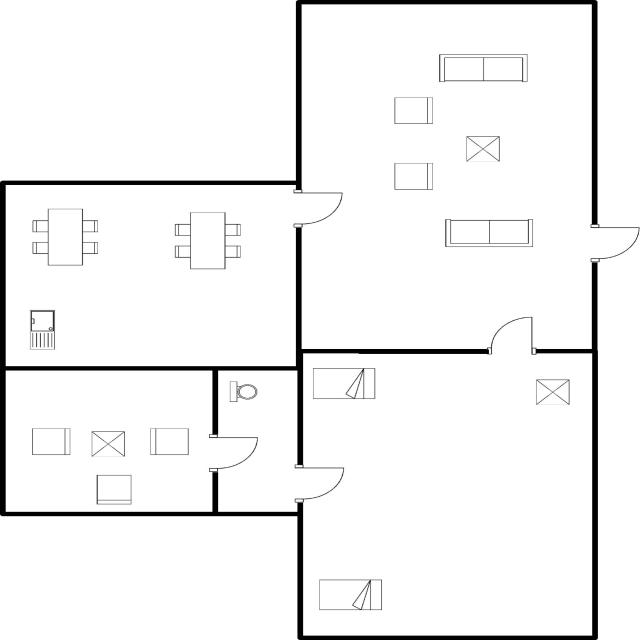bed: (310, 574, 387, 615), (309, 361, 381, 404)
coffee_table: (529, 375, 580, 411), (460, 132, 506, 164), (86, 429, 132, 458)
dining_table: (26, 204, 104, 271), (167, 206, 243, 274)
large_sofa: (437, 215, 538, 250), (434, 50, 532, 86)
sink: (22, 305, 63, 352)
small_sofa: (89, 470, 140, 508), (386, 92, 438, 128), (144, 421, 192, 460), (388, 159, 438, 194), (26, 423, 75, 458)
